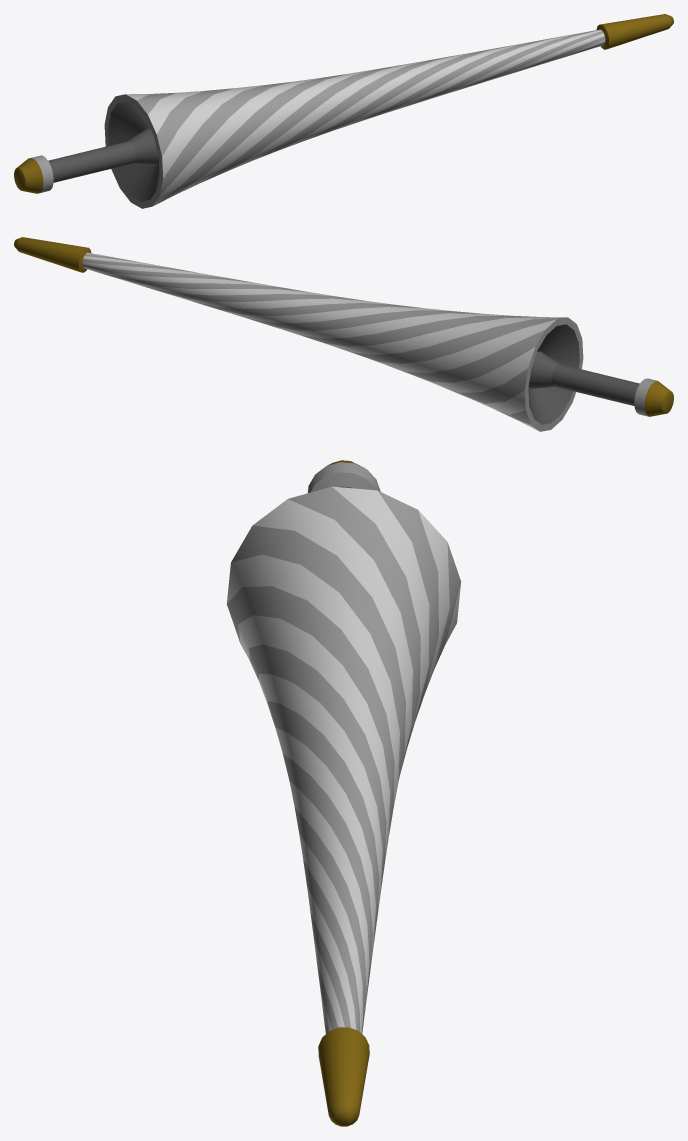
File: Lance.FBX
The picture shows the model from 3 angles, top to bottom: view 1: azimuth 30°, elevation 25°; view 2: azimuth 150°, elevation 25°; view 3: azimuth 270°, elevation 25°; orthographic projection. The views are drawn at different scales.
Visible parts, largest first — view 1: Lance; view 2: Lance; view 3: Lance.
Part boxes in pixels (left/top/right/bottom): Lance: left=14, top=14, right=673, bottom=208; Lance: left=14, top=237, right=673, bottom=431; Lance: left=226, top=460, right=461, bottom=1126.
Size of the model in its own units: 464 by 72.15 by 72.15.
